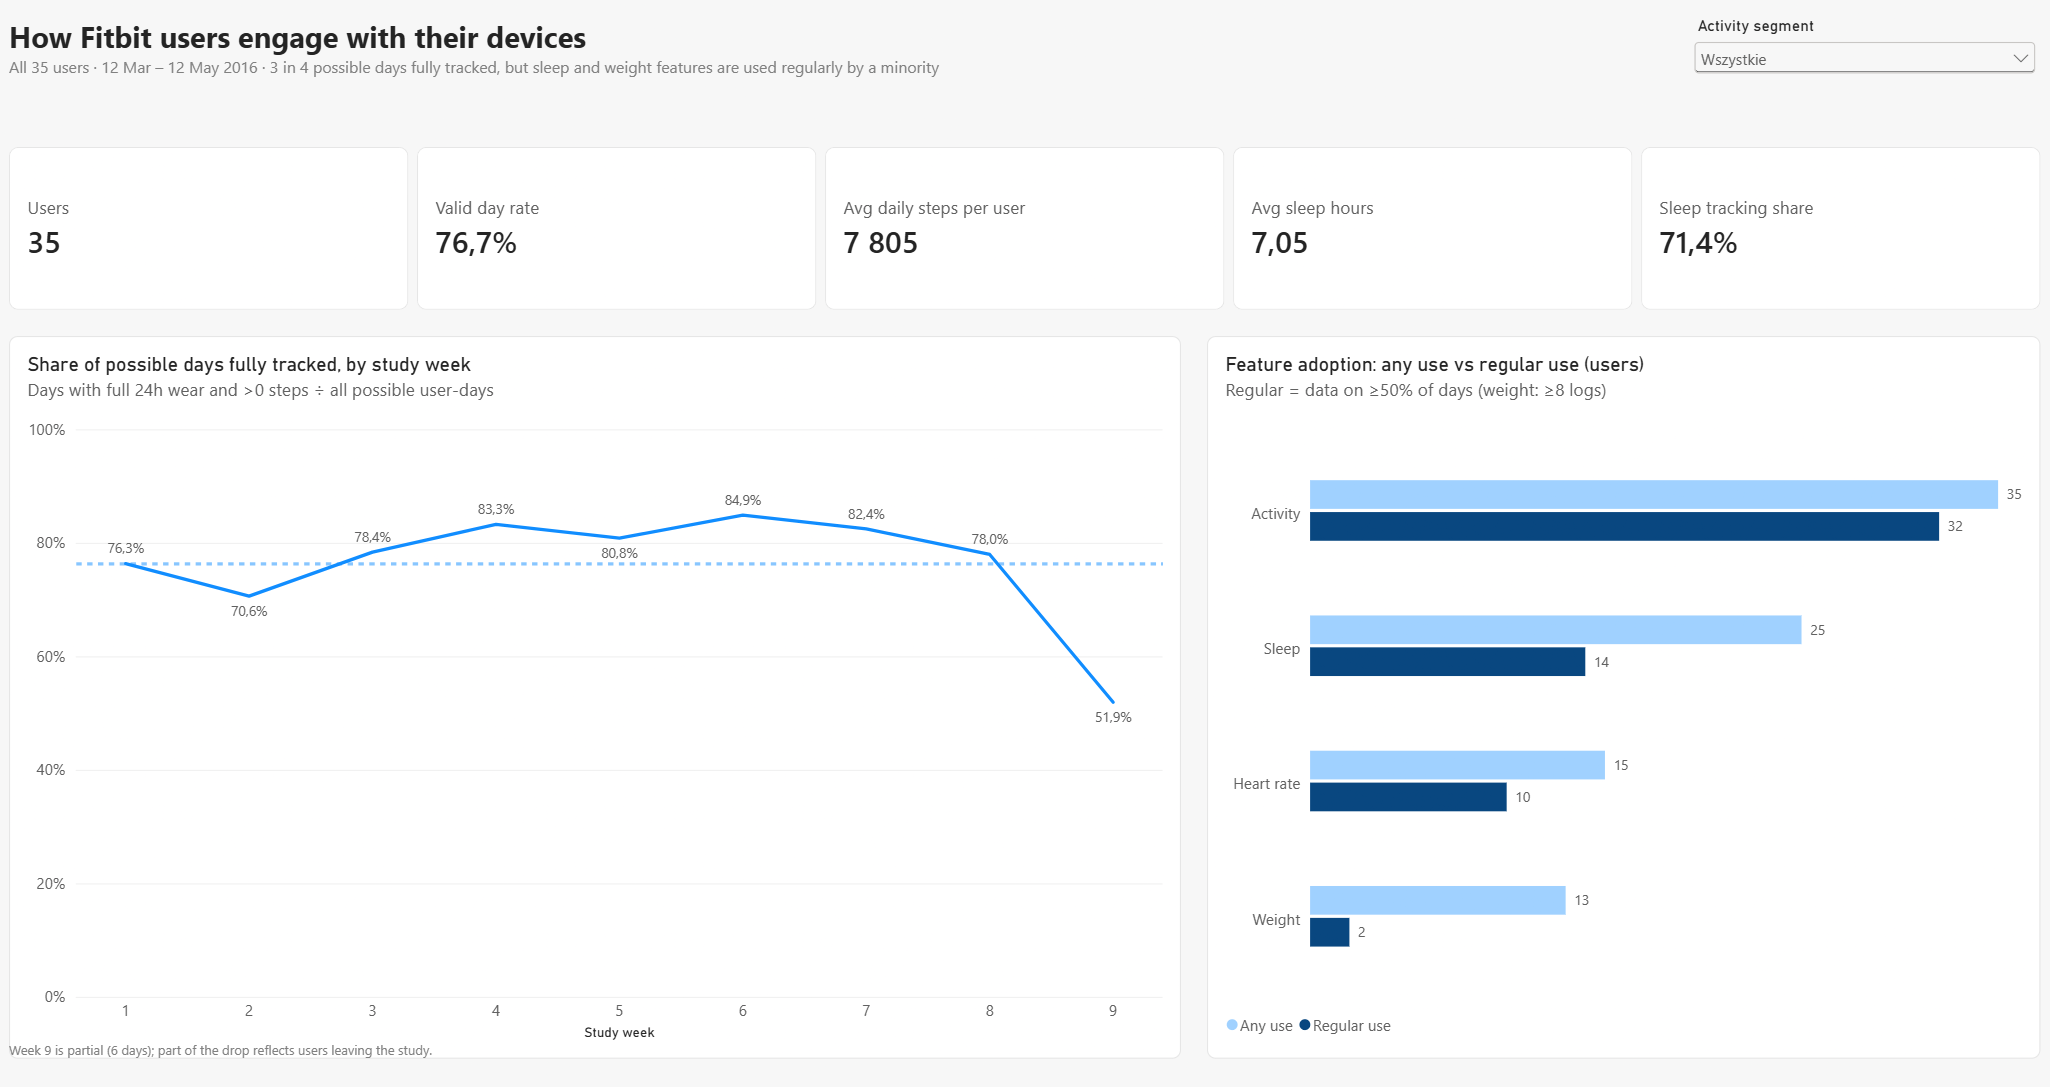

What the dashboard file says about the page in this screenshot:
{"tool":"powerbi","page":{"name":"Overview","canvas":[1920,1080],"ordinal":0},"visuals":[{"type":"textbox","title":"Title","box":[24,24,1350,96],"z":0},{"type":"slicer","fields":{"Values":["dim_user.activity_segment"]},"box":[1572,24,324,96],"z":1000},{"type":"cardVisual","fields":{"Data":["_Measures.Users","_Measures.Valid day rate","_Measures.Avg daily steps per user","_Measures.Avg sleep hours","_Measures.Sleep tracking share"]},"box":[24,144,1872,150],"z":2000},{"type":"lineChart","title":"Share of possible days fully tracked, by study week","fields":{"Category":["dim_date.study_week"],"Y":["_Measures.Valid day rate"]},"box":[24,318,1080,666],"z":3000},{"type":"clusteredBarChart","title":"Feature adoption: any use vs regular use (users)","fields":{"Category":["Features.Feature"],"Y":["Features.Users using feature","Features.Regular users"]},"box":[1128,318,768,666],"z":4000},{"type":"textbox","title":"Note","box":[24,966,1080,60],"z":5000}]}

Visuals, with their boxes on the page's 1920x1080 design canvas (x1, y1, x2, y2). These are canvas units, not pixel positions in the 2050x1087 screenshot, which may show the page scaled, cropped or inside an application window:
"Title" textbox: [24,24,1374,120]
slicer - dim_user.activity_segment: [1572,24,1896,120]
cardVisual - _Measures.Users x _Measures.Valid day rate: [24,144,1896,294]
"Share of possible days fully tracked, by study week" lineChart: [24,318,1104,984]
"Feature adoption: any use vs regular use (users)" clusteredBarChart: [1128,318,1896,984]
"Note" textbox: [24,966,1104,1026]
